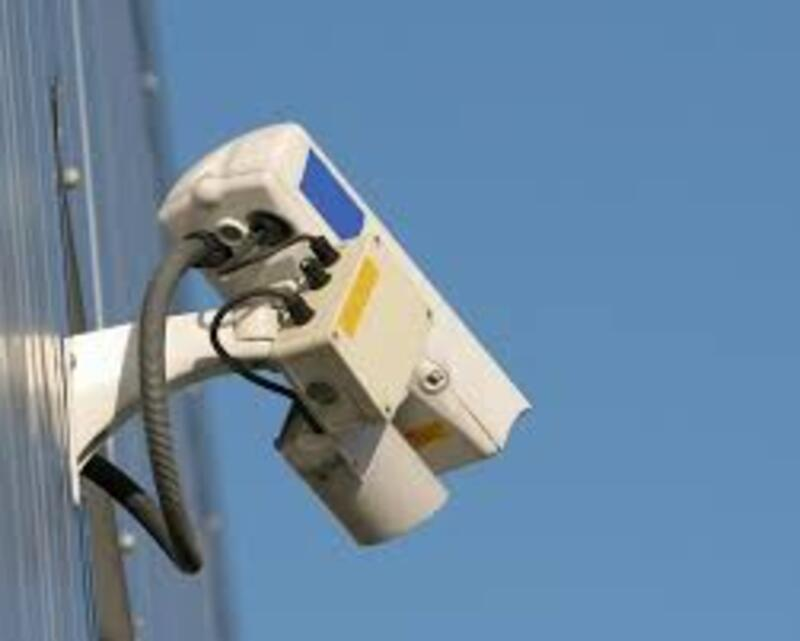box: (123, 204, 348, 637)
